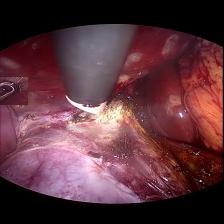Grasper: (0, 76, 28, 104)
Hook: (61, 87, 114, 125)
